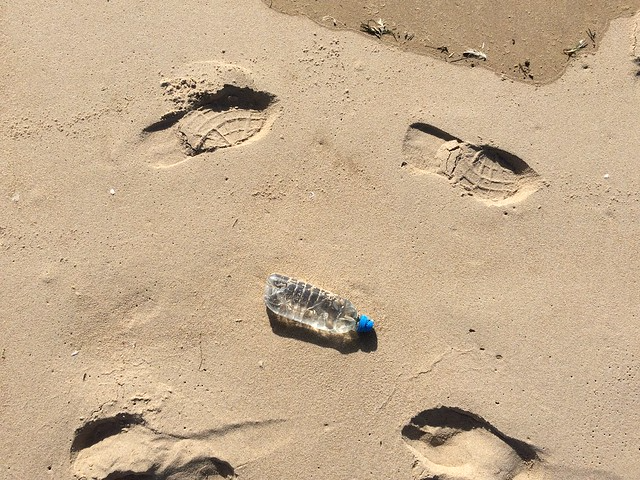bottle: (258, 264, 381, 346)
